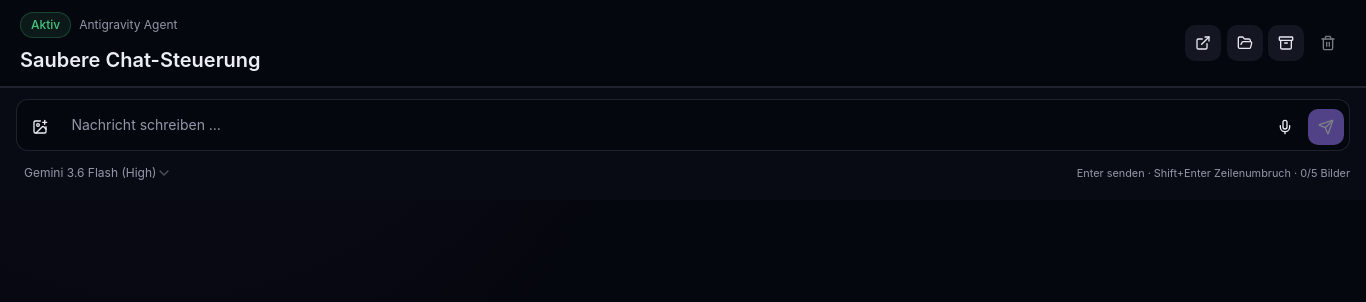
Test: chat components › queues messages when agent is busy and allows edit / delete
In the text box named "Nachricht an Anti-Gravity": (662, 125) [63,105,1261,145], type "Queued test message"
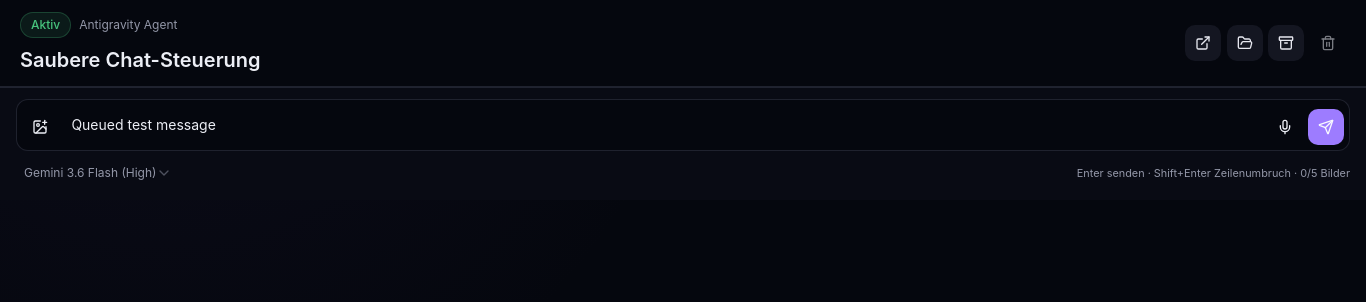
Press Enter in the text box named "Nachricht an Anti-Gravity", box [63,105,1261,145]
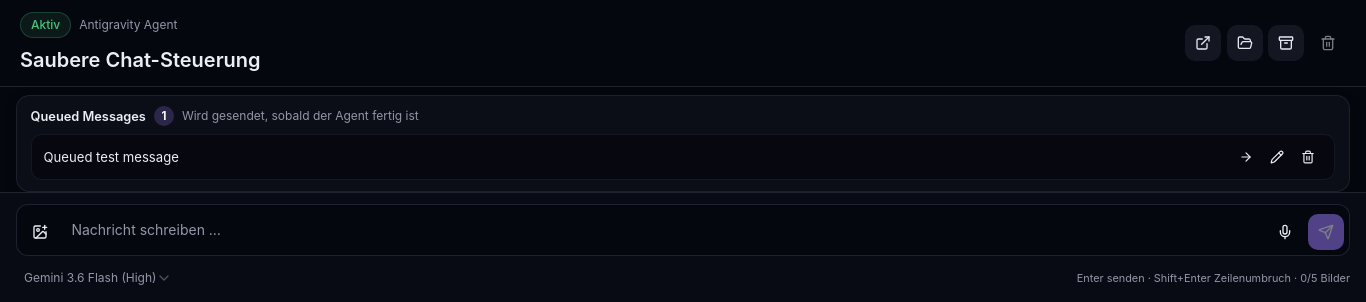
Check: the button named "Chat löschen" is disabled, box [1310,25,1346,61]
Check: the text "Queued Messages" is shown, box [31,107,146,126]
Check: the text "Queued test message" is shown, box [44,148,179,164]
Click the button named "Nachricht bearbeiten": (1277, 157) [1263,143,1291,171]
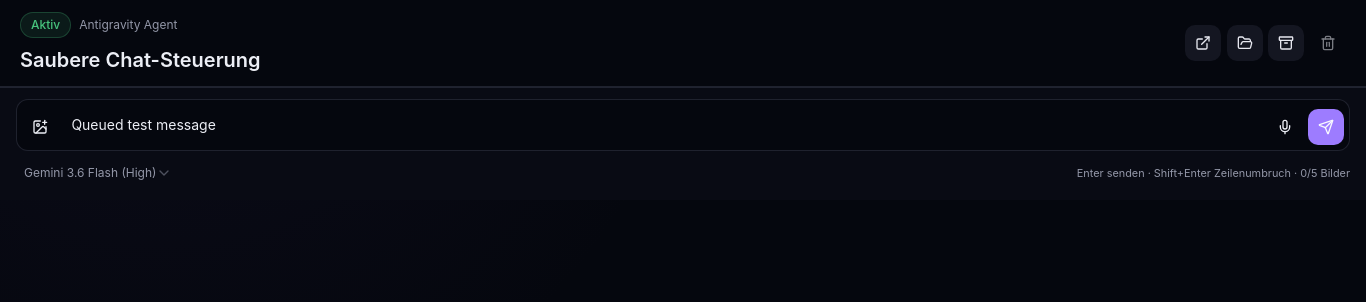
Check: the text "Queued Messages" is gone
